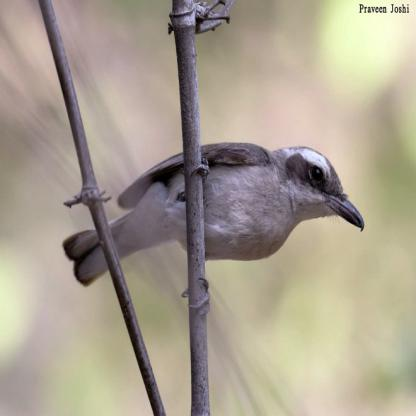Burung: (62, 141, 363, 287)
